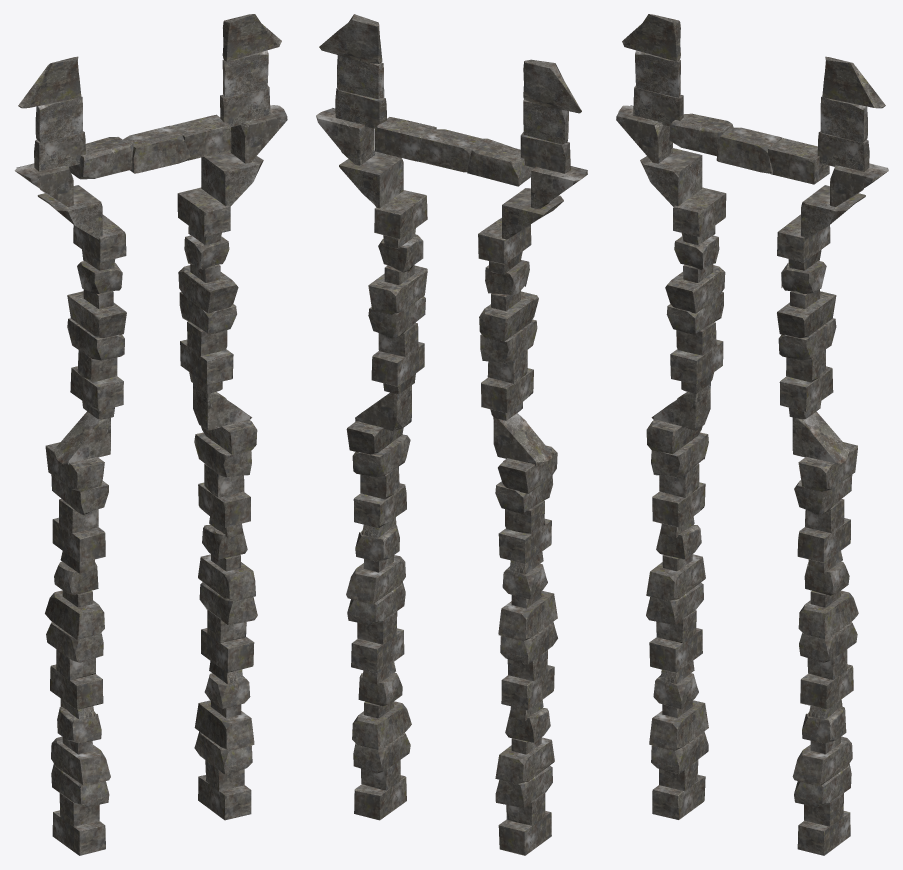
File: SM_CurtainWall_SeamHider.fbx
3 views of the same model, side by side, from view 1: azimuth 30°, elevation 25°; view 2: azimuth 150°, elevation 25°; view 3: azimuth 330°, elevation 25° (orthographic).
Parts seen in each view (by area): view 1: SM_CurtainWall_SeamHider_LOD0; view 2: SM_CurtainWall_SeamHider_LOD0; view 3: SM_CurtainWall_SeamHider_LOD0.
Boxes of the visible parts, x1=… form: SM_CurtainWall_SeamHider_LOD0: x1=14, y1=14, x2=287, y2=855; SM_CurtainWall_SeamHider_LOD0: x1=316, y1=14, x2=587, y2=855; SM_CurtainWall_SeamHider_LOD0: x1=616, y1=14, x2=888, y2=855.
Bounding box in the file's own units: 488 × 108 × 1385.
